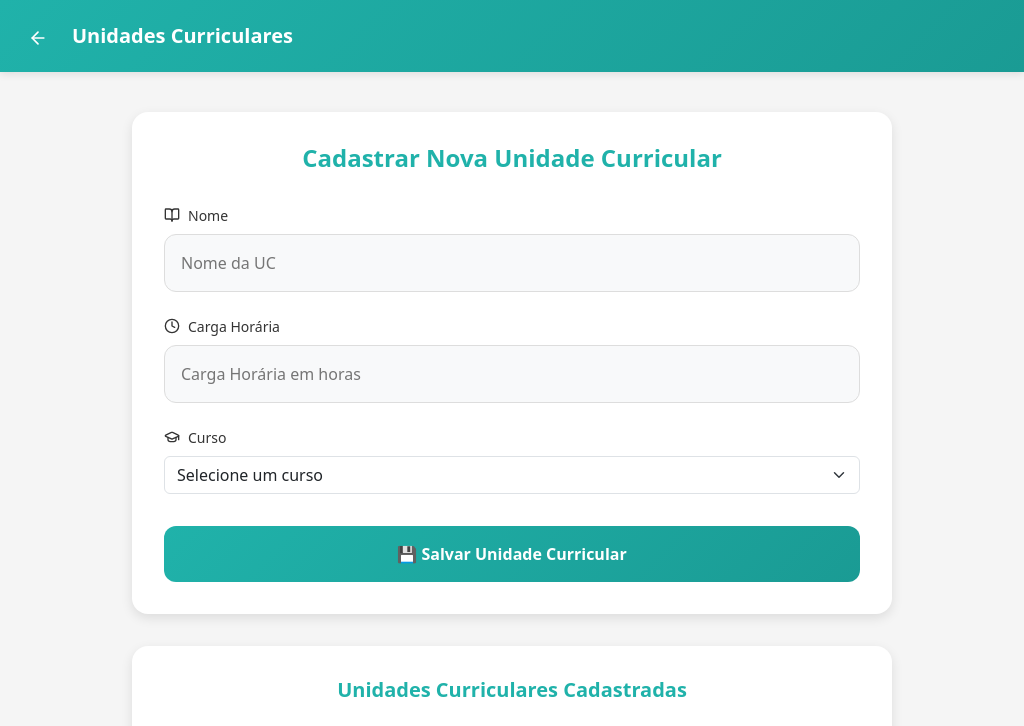
Test: UcsRegistrationPage › lida com falha de conexão ao salvar UC
The image size is (1024, 726).
Type "Nova UC" into the field labelled "Nome" at [512, 263], box [164,234,860,292]
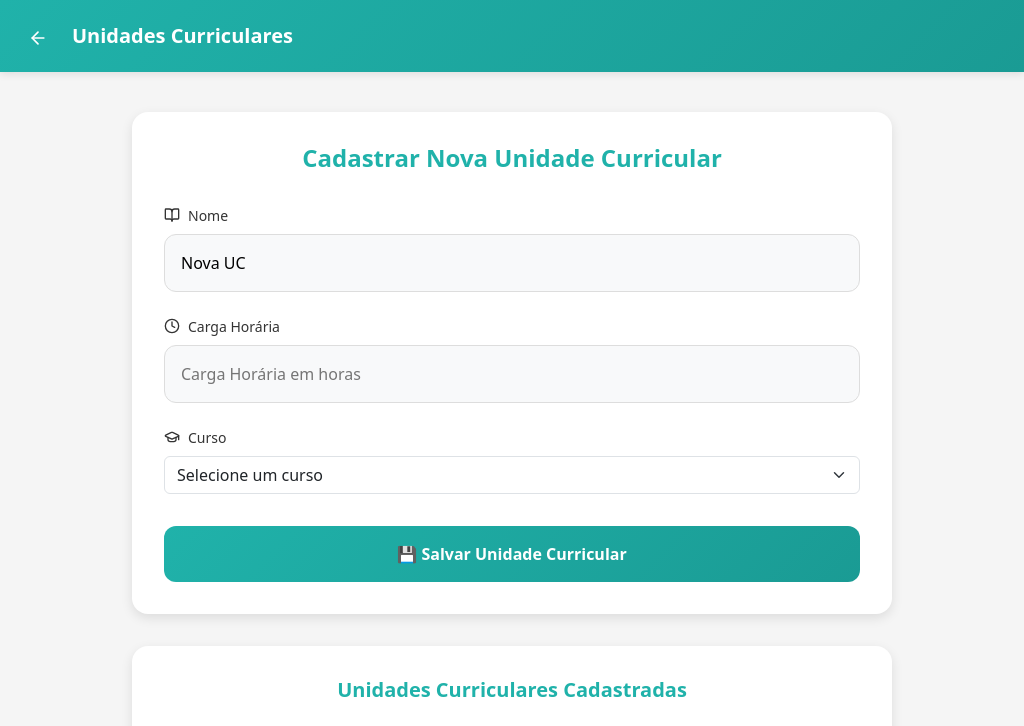
Type "40" into the number field labelled "Carga Horária" at [512, 374], box [164,345,860,403]
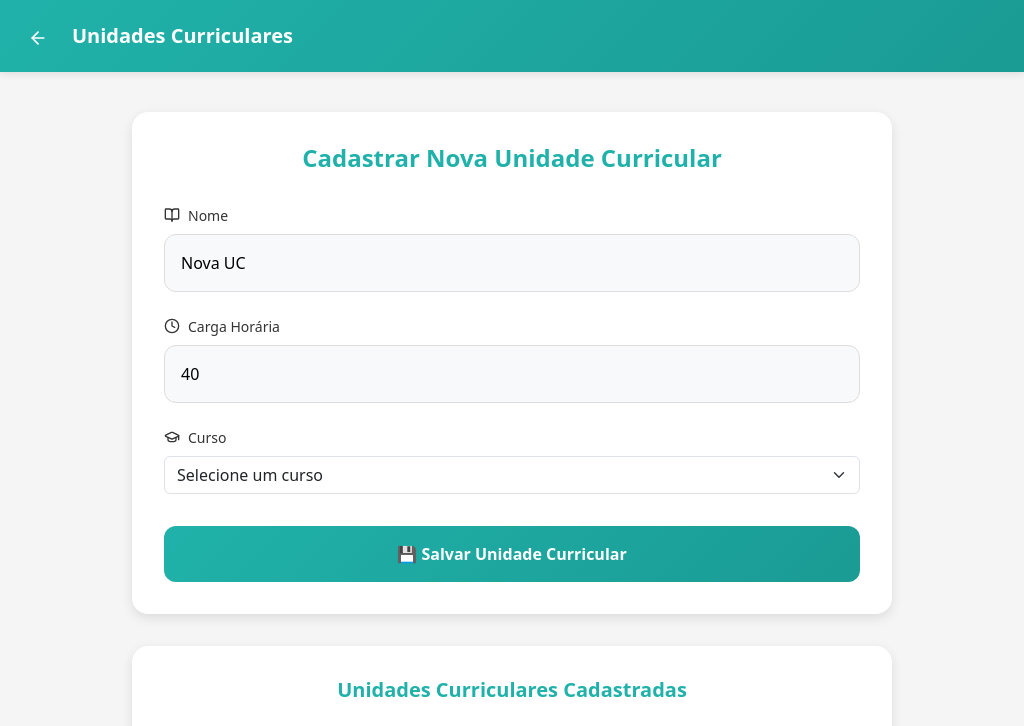
Select "Programação em Python" in the dropdown labelled "Curso" at [512, 475], box [164,456,860,494]
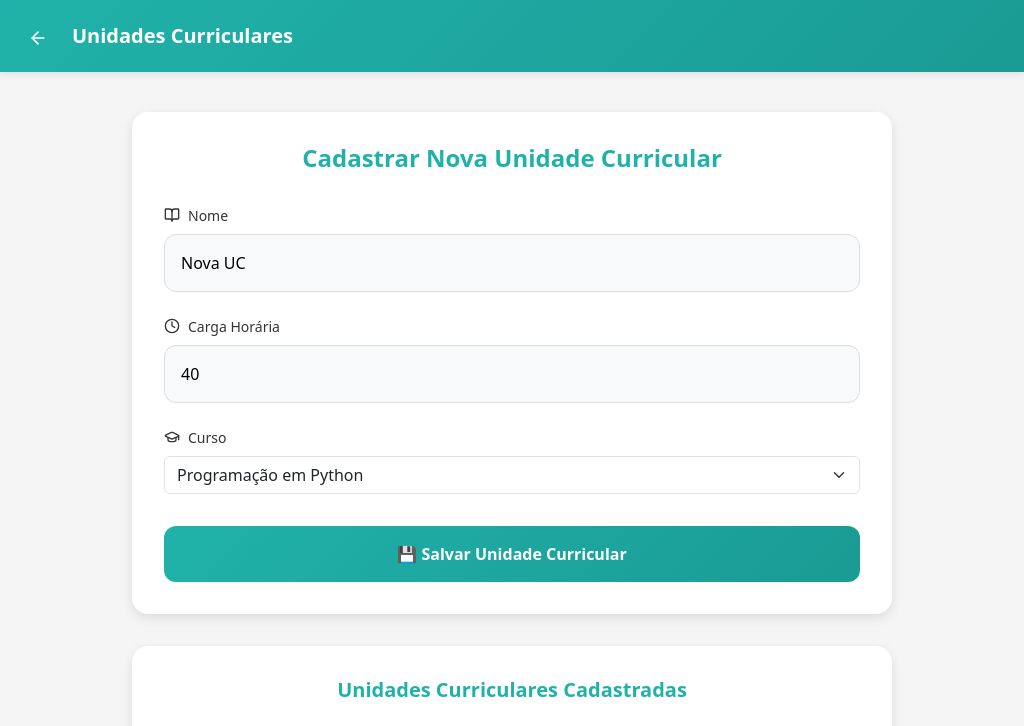
Click the button "💾 Salvar Unidade Curricular" at [512, 554], box [164,526,860,582]
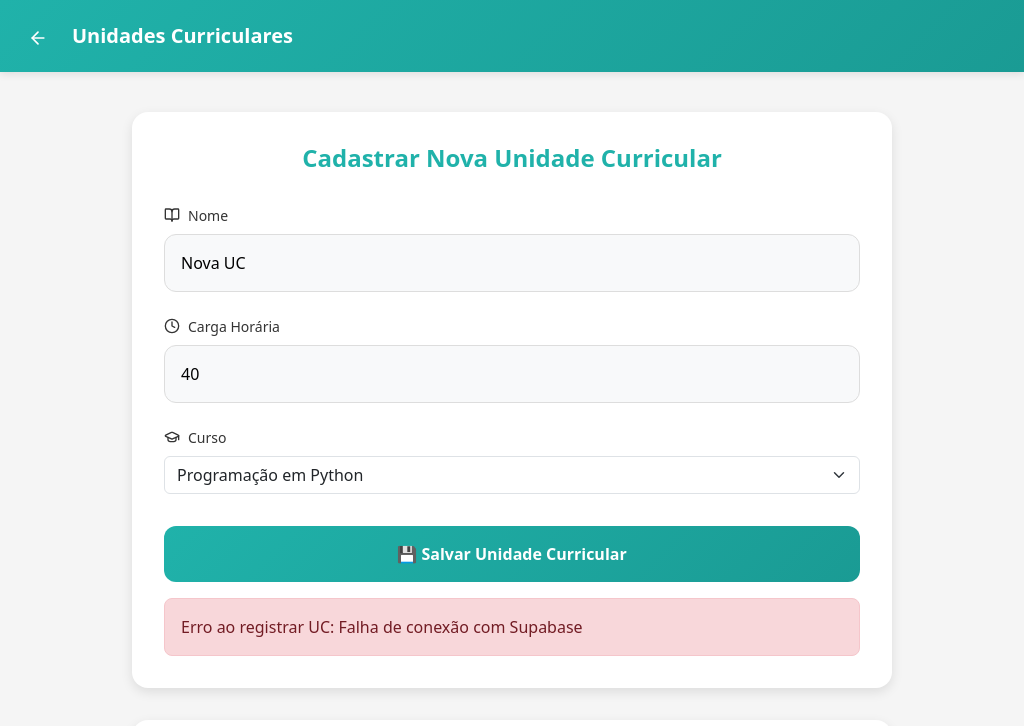
Expected: the text "Erro ao registrar UC: Falha de conexão com Supabase" is shown, [164,598,860,656]
